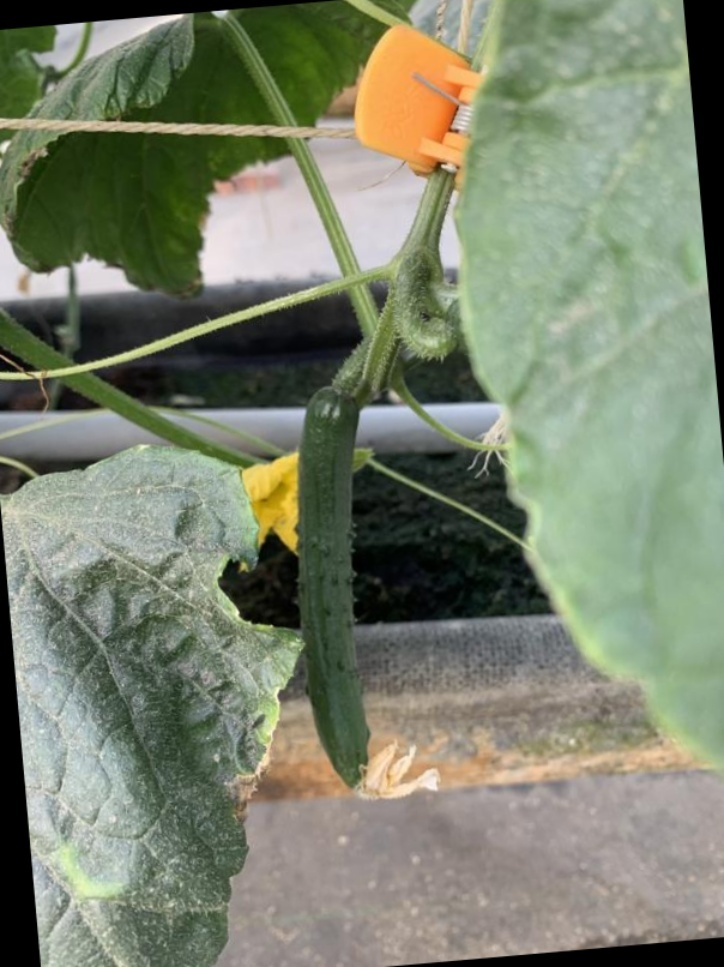mature: (281, 376, 387, 808)
